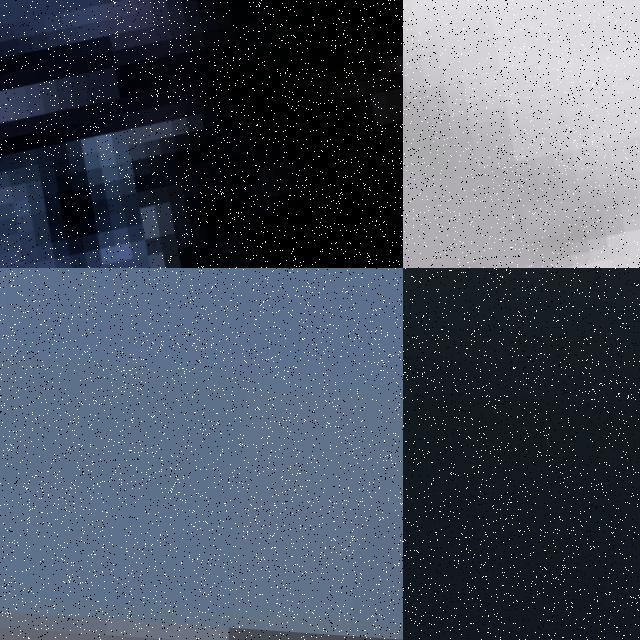drone: (0, 0, 403, 268), (403, 0, 640, 268)
